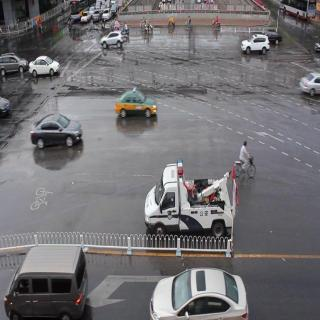BigCar: (69, 0, 96, 22)
Car: (136, 157, 234, 245), (4, 240, 94, 320), (152, 258, 250, 320), (28, 109, 82, 154), (113, 85, 160, 123), (0, 48, 29, 82), (278, 0, 316, 25), (27, 56, 59, 84), (240, 34, 272, 58), (298, 69, 320, 98), (100, 32, 124, 49), (260, 30, 283, 46), (81, 12, 90, 22), (104, 8, 111, 20), (93, 10, 101, 20), (110, 4, 118, 14)
